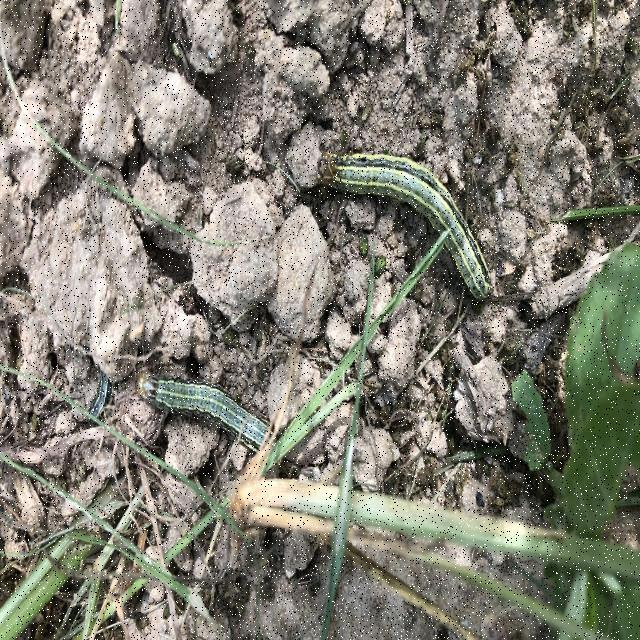army worm: (300, 124, 536, 327), (120, 334, 328, 489)
